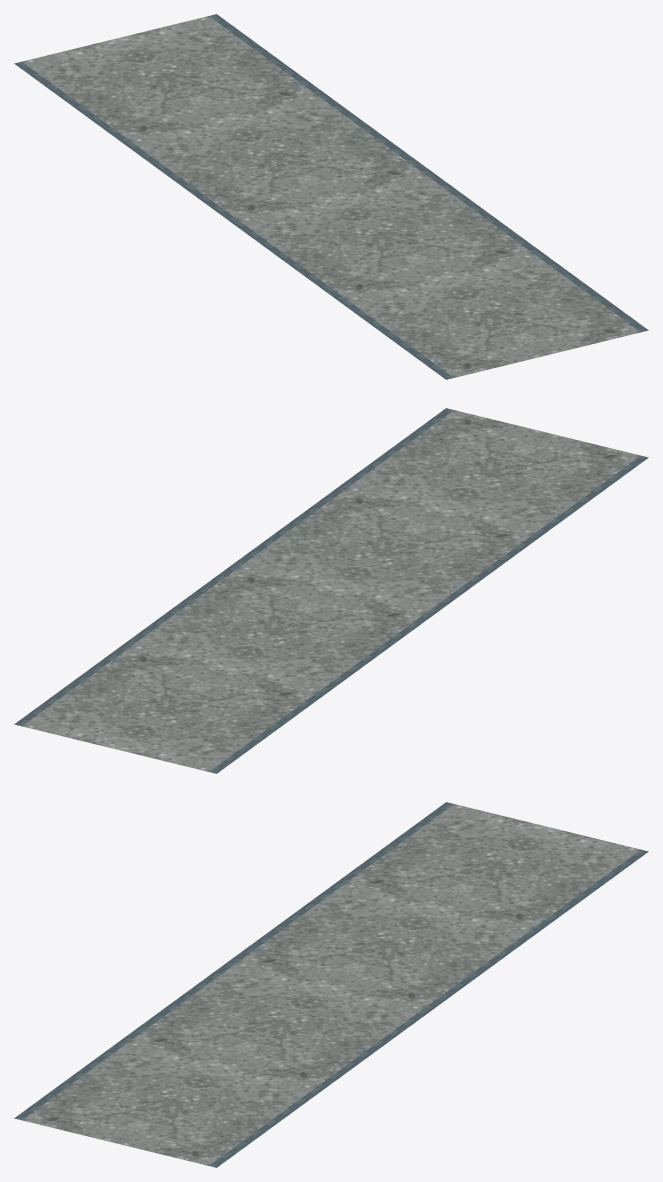
Rendered from BasicRoad 4.fbx.
3 renders of one model, top to bottom at view 1: azimuth 30°, elevation 25°; view 2: azimuth 150°, elevation 25°; view 3: azimuth 330°, elevation 25°, orthographic.
Visible parts, largest first — view 1: BasicRoad 4; view 2: BasicRoad 4; view 3: BasicRoad 4.
Part boxes in pixels (box(x1,y1,x2,y2)): BasicRoad 4: box(14, 14, 648, 379); BasicRoad 4: box(14, 408, 648, 773); BasicRoad 4: box(14, 802, 648, 1167).
Bounding box in the file's own units: 650 × 0 × 2400.
